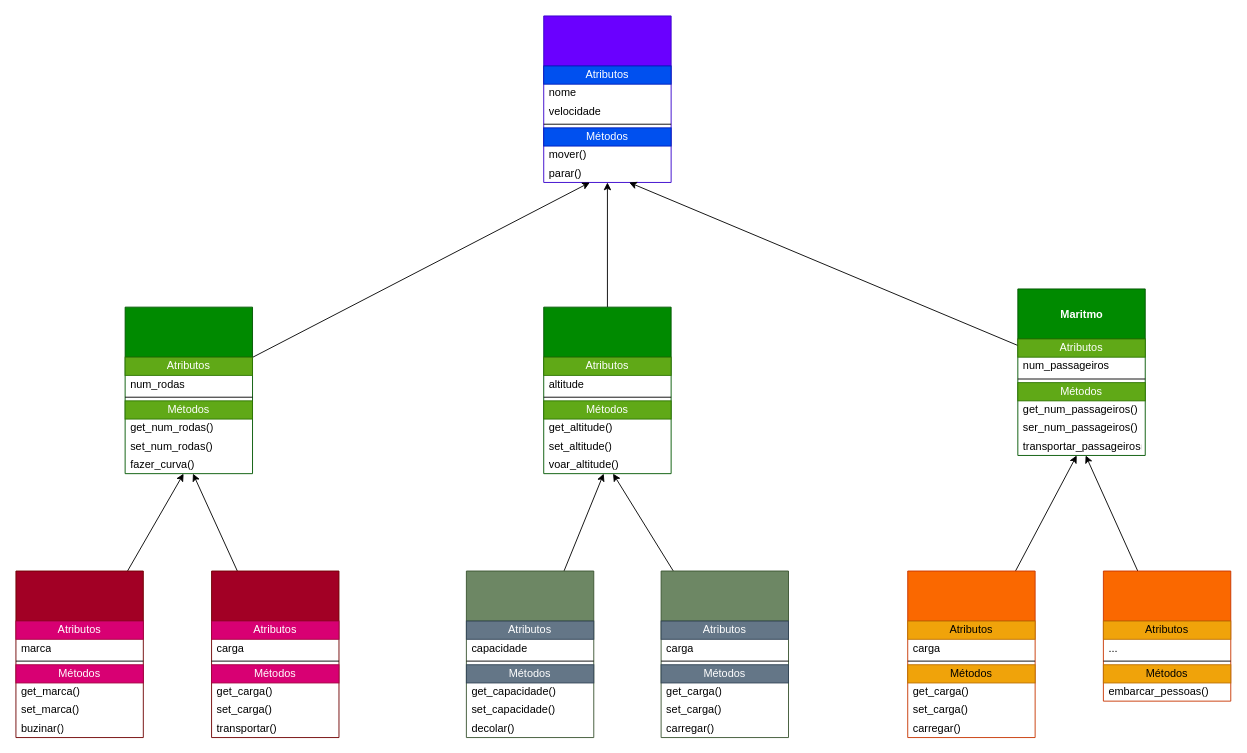
This 1247x753 diagram has some shape labels left out. Each missing label, with the box of its shape:
Aereo: (543, 306, 671, 474)
Aviao_Carga: (660, 570, 789, 738)
Aviao_Passageiro: (465, 570, 594, 738)
Barco: (1102, 570, 1231, 701)
Caminhao: (211, 570, 339, 738)
Carro: (15, 570, 143, 738)
Navio: (907, 570, 1035, 738)
Terrestre: (124, 306, 253, 474)
Transporte: (543, 15, 671, 182)
